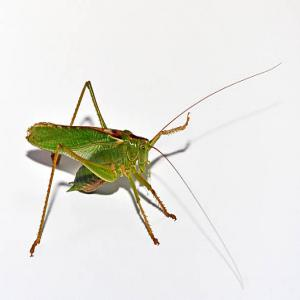locust: (14, 87, 203, 281)
